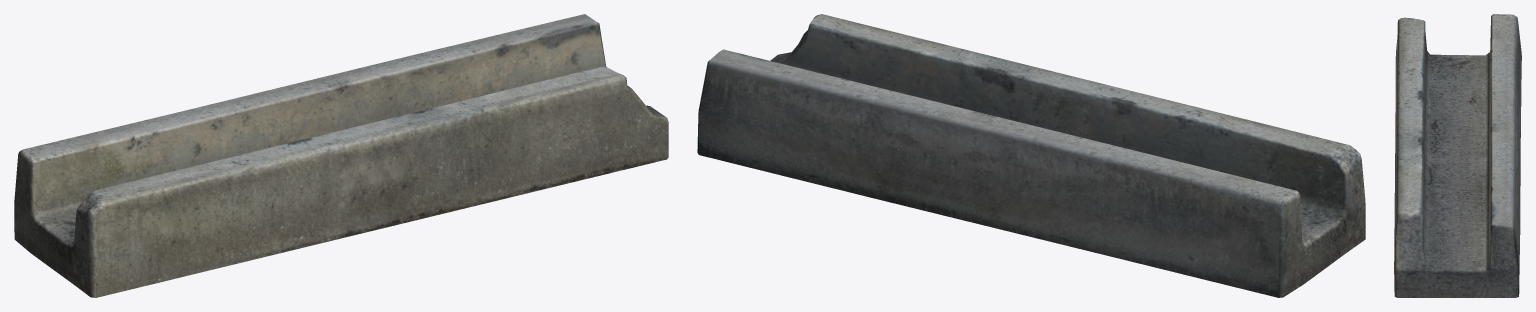
File: sm_Pipe_01_07_Trough.fbx
3 views of the same model, side by side, from view 1: azimuth 30°, elevation 25°; view 2: azimuth 150°, elevation 25°; view 3: azimuth 270°, elevation 25° (orthographic). The views are drawn at different scales.
Visible parts, largest first — view 1: sm_Pipe_01_07_Trough_LOD0; view 2: sm_Pipe_01_07_Trough_LOD0; view 3: sm_Pipe_01_07_Trough_LOD0.
Part boxes in pixels (x1,y1,x2,y2): sm_Pipe_01_07_Trough_LOD0: (14,14,668,297); sm_Pipe_01_07_Trough_LOD0: (697,14,1365,297); sm_Pipe_01_07_Trough_LOD0: (1394,14,1521,297).
Bounding box in the file's own units: 26.38 × 106 × 16.14.
